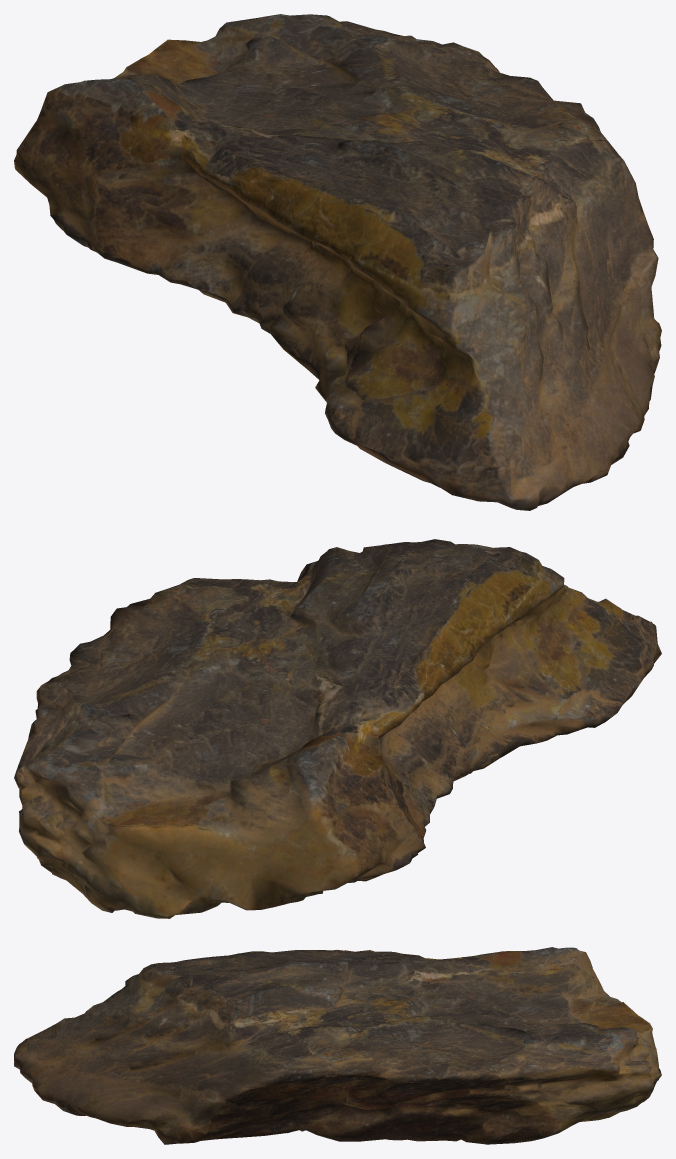
The model's file is rock_09.glb.
3 views of the same model, one above another, from view 1: azimuth 30°, elevation 25°; view 2: azimuth 150°, elevation 25°; view 3: azimuth 270°, elevation 25° (orthographic). The views are drawn at different scales.
Parts seen in each view (by area): view 1: rock_09_LOD0; view 2: rock_09_LOD0; view 3: rock_09_LOD0.
Part boxes in pixels (bbox=[...]): rock_09_LOD0: bbox=[14, 14, 661, 510]; rock_09_LOD0: bbox=[14, 539, 661, 918]; rock_09_LOD0: bbox=[14, 947, 661, 1144].
Size of the model in its own units: 0.0739 by 0.0329 by 0.1447.
1 material, 1 textured.
